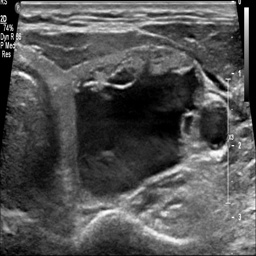mass: (72, 64, 203, 200)
